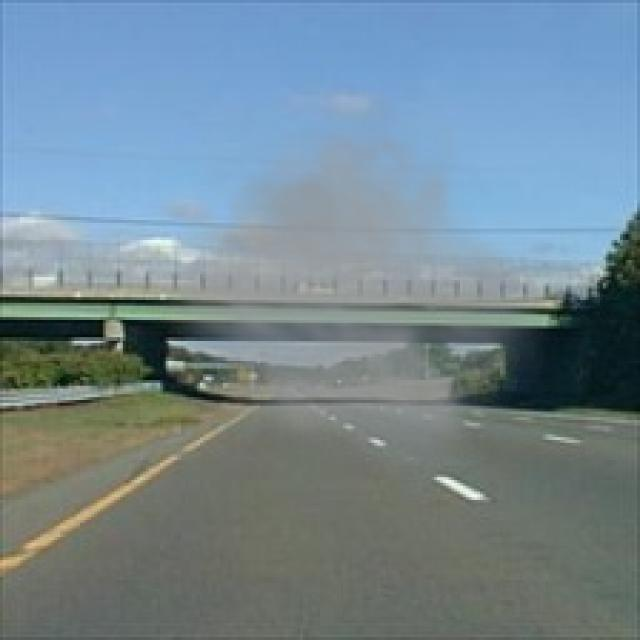Smoke: (145, 88, 560, 466)
